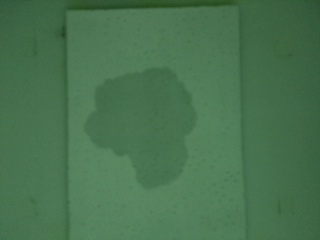Water_detected: (104, 81, 187, 179)
